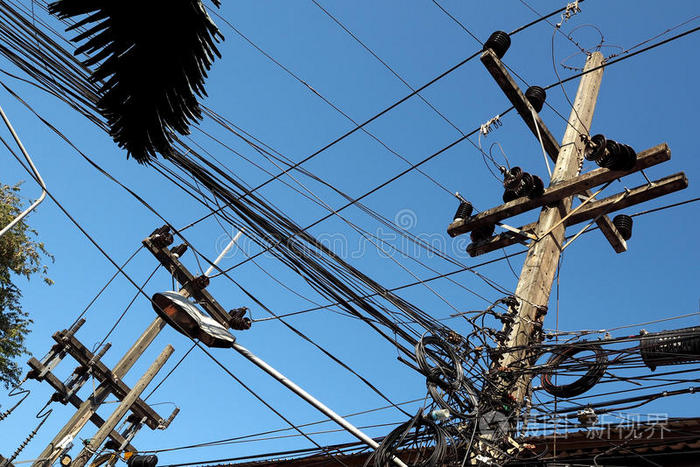insulator: (582, 131, 635, 173), (506, 161, 546, 197)
